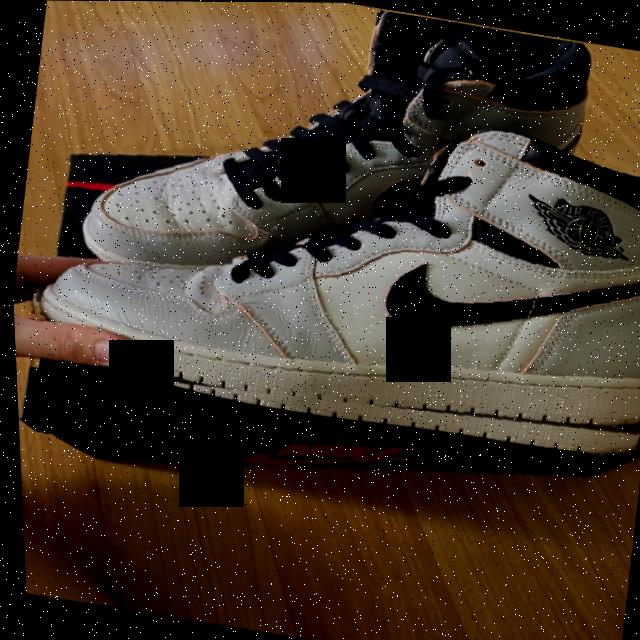shoe: (4, 0, 640, 466)
